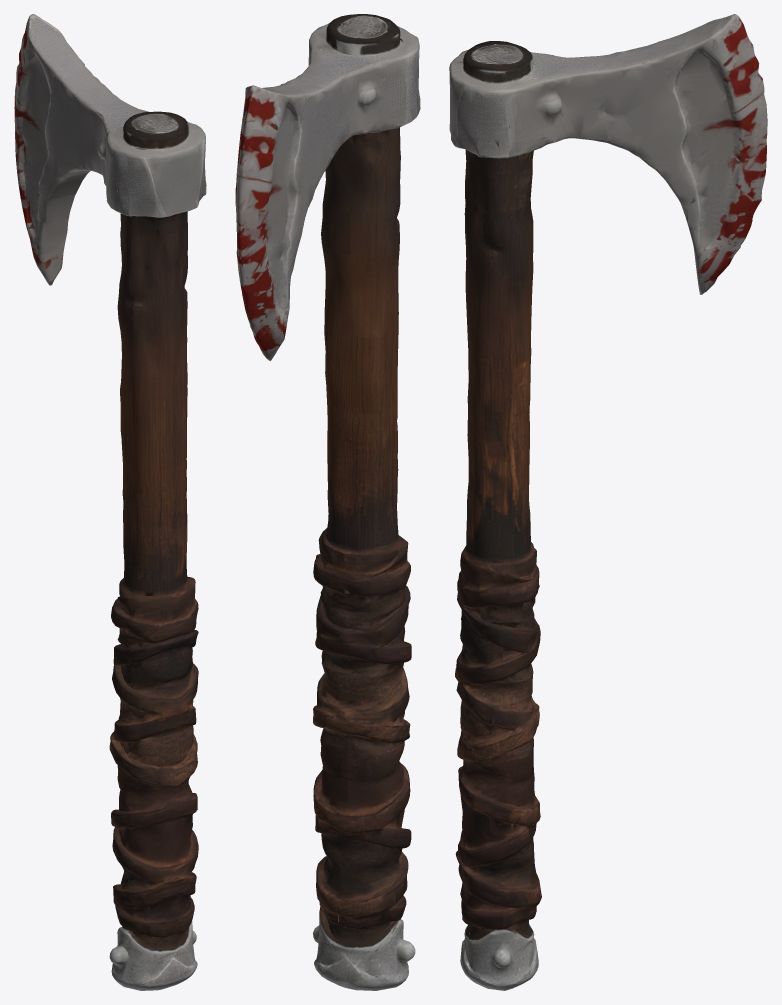
Rendered from Bjorn_Axe.fbx.
3 renders of one model, left to right at view 1: azimuth 30°, elevation 25°; view 2: azimuth 150°, elevation 25°; view 3: azimuth 270°, elevation 25°, orthographic. The views are drawn at different scales.
Visible parts, largest first — view 1: Bjorn_Axe; view 2: Bjorn_Axe; view 3: Bjorn_Axe.
Part boxes in pixels (x1,y1,x2,y2): Bjorn_Axe: (14,14,206,990); Bjorn_Axe: (235,14,420,990); Bjorn_Axe: (449,14,767,990).
Size of the model in its own units: 4.34 by 41 by 12.35.
